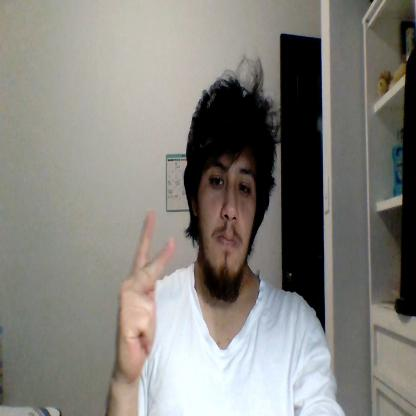P: (115, 211, 174, 382)
